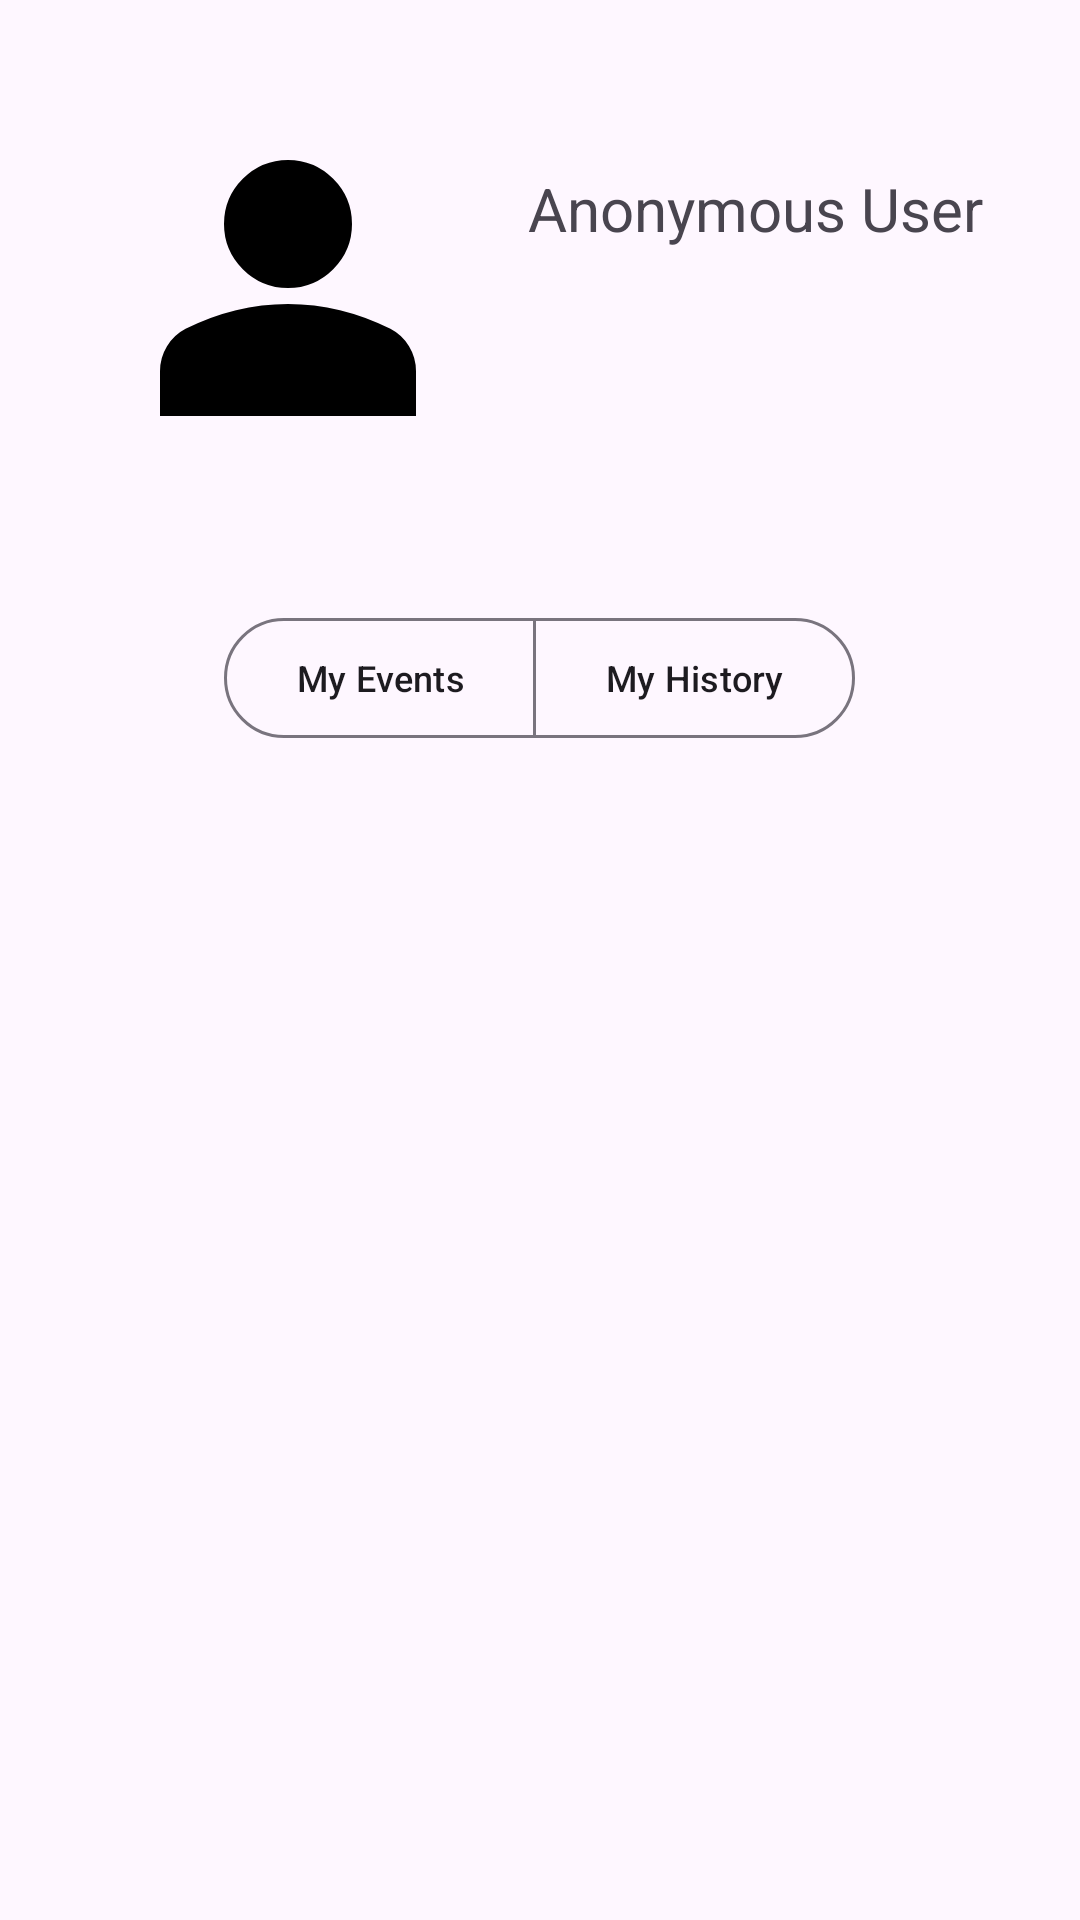

Named icons in this screenshot (1080×1920) and their bounding boxes, [x1=x1, y1=y1, x2=x2, y2=y2]:
person: [x1=160, y1=160, x2=416, y2=416]
